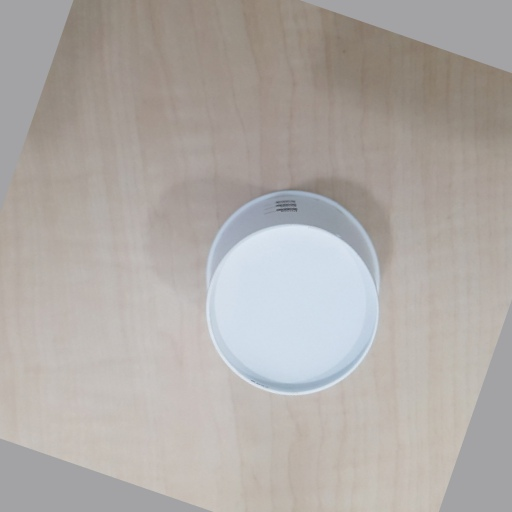Paper_1: (201, 186, 386, 393)
